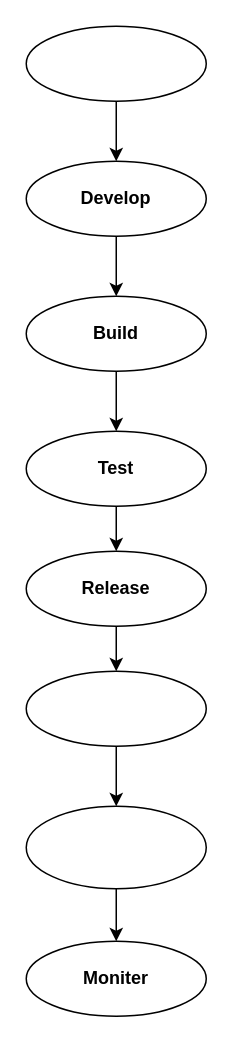
Some shapes in this 233 by 1043 pixel diagram are drawn without their labels. Each missing label, with the centre of its shape:
Deploy: pixel 115 708
Operate: pixel 115 847
Plane: pixel 115 63
